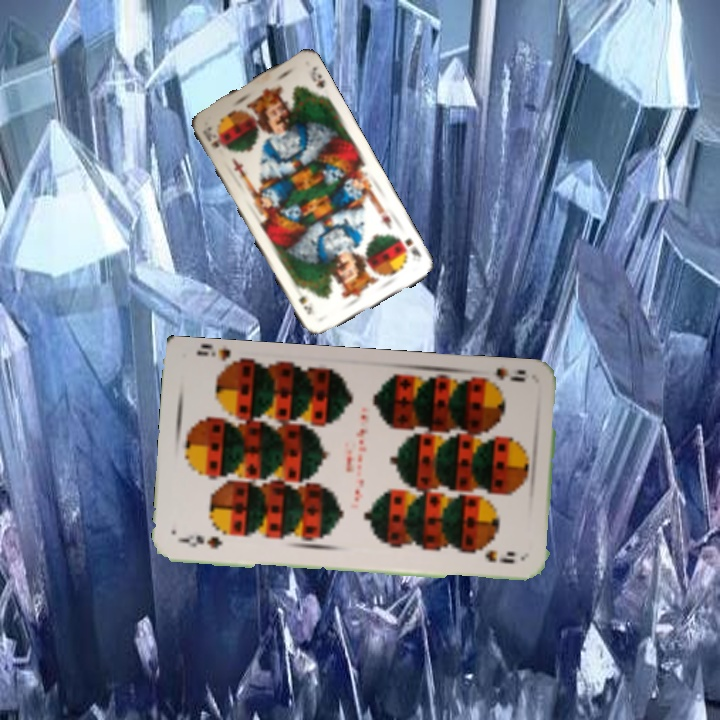S9: (477, 363, 528, 391), (176, 531, 225, 551)
SK: (393, 232, 424, 260), (203, 122, 228, 152)
